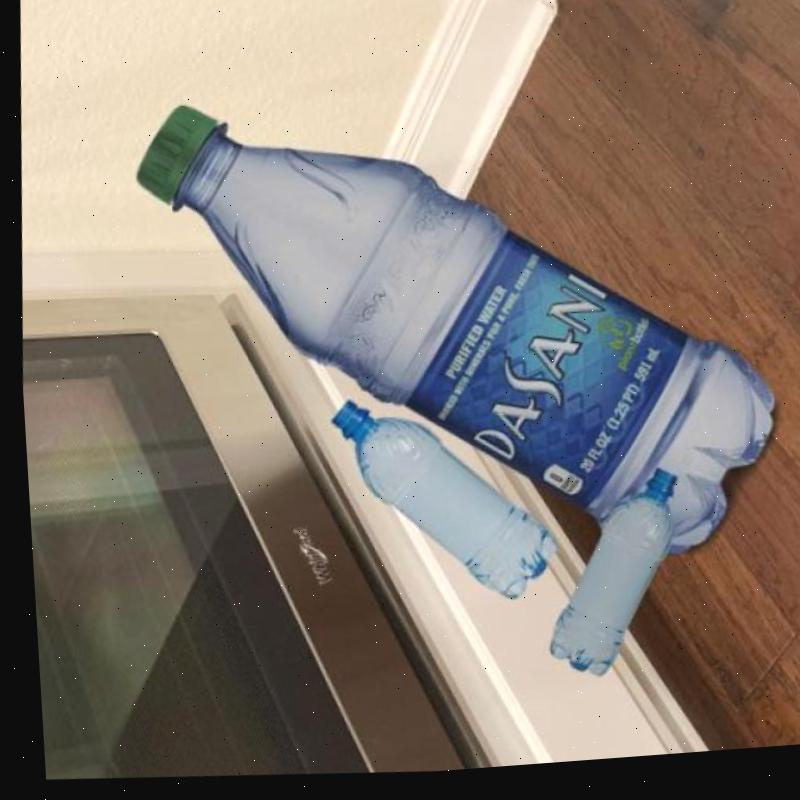botella: (107, 66, 800, 606), (315, 388, 559, 628), (529, 469, 681, 693)
